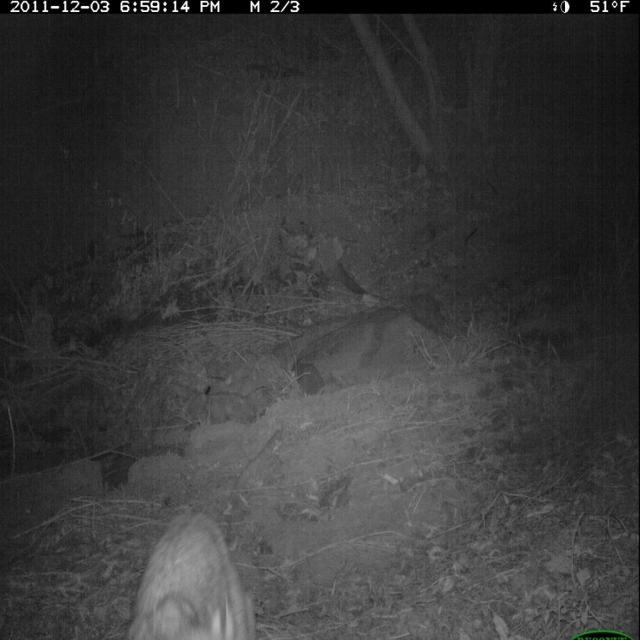bobcat: (118, 502, 260, 640)
